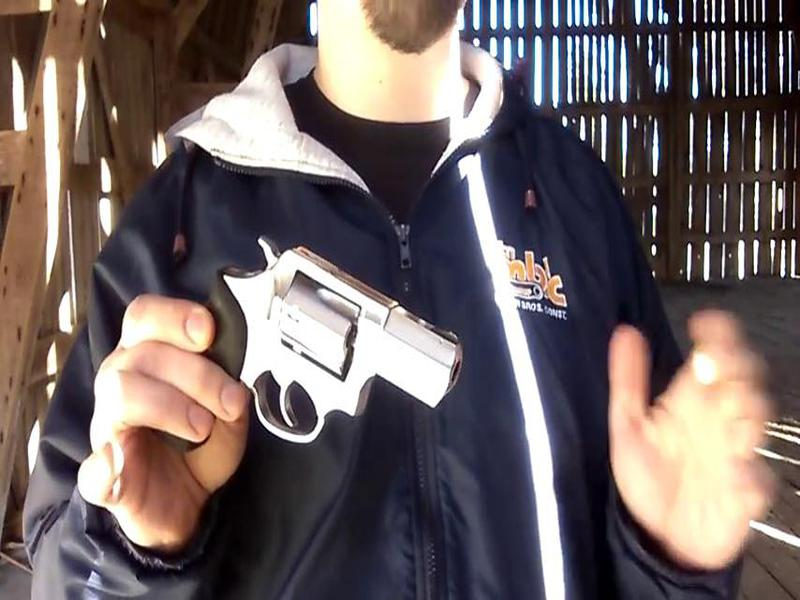Revolver: (108, 239, 494, 463)
